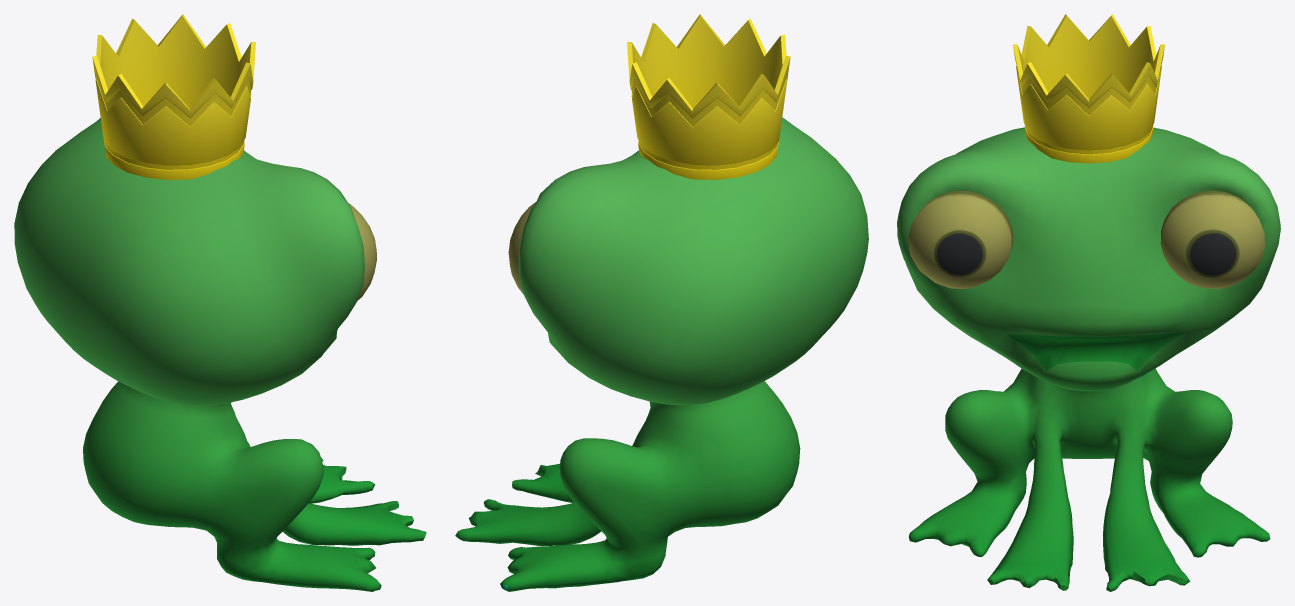
File: Frog.fbx
The picture shows the model from 3 angles, left to right: view 1: azimuth 30°, elevation 25°; view 2: azimuth 150°, elevation 25°; view 3: azimuth 270°, elevation 25°; orthographic projection. The views are drawn at different scales.
Visible parts, largest first — view 1: Body_low; view 2: Body_low; view 3: Body_low.
Part boxes in pixels (x1=…): Body_low: x1=14, y1=14, x2=426, y2=591; Body_low: x1=455, y1=14, x2=868, y2=591; Body_low: x1=897, y1=14, x2=1280, y2=591.
Bounding box in the file's own units: 1464 × 2157 × 1645.
